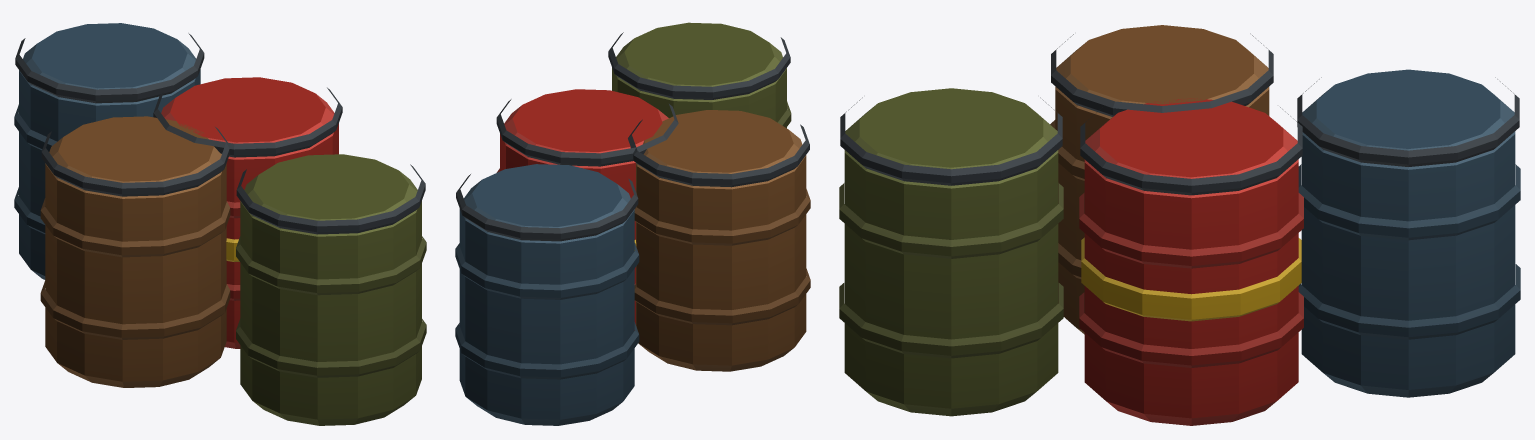
File: barrel-v1.glb
The picture shows the model from 3 angles, left to right: view 1: azimuth 30°, elevation 25°; view 2: azimuth 150°, elevation 25°; view 3: azimuth 270°, elevation 25°; orthographic projection. The views are drawn at different scales.
Visible parts, largest first — view 1: barrel-v1.lod0; view 2: barrel-v1.lod0; view 3: barrel-v1.lod0.
Boxes of the visible parts, left/top/right/bottom form: barrel-v1.lod0: left=14, top=23, right=426, bottom=425; barrel-v1.lod0: left=455, top=22, right=810, bottom=425; barrel-v1.lod0: left=839, top=25, right=1520, bottom=425.
Size of the model in its own units: 1.54 by 1.07 by 2.61.
